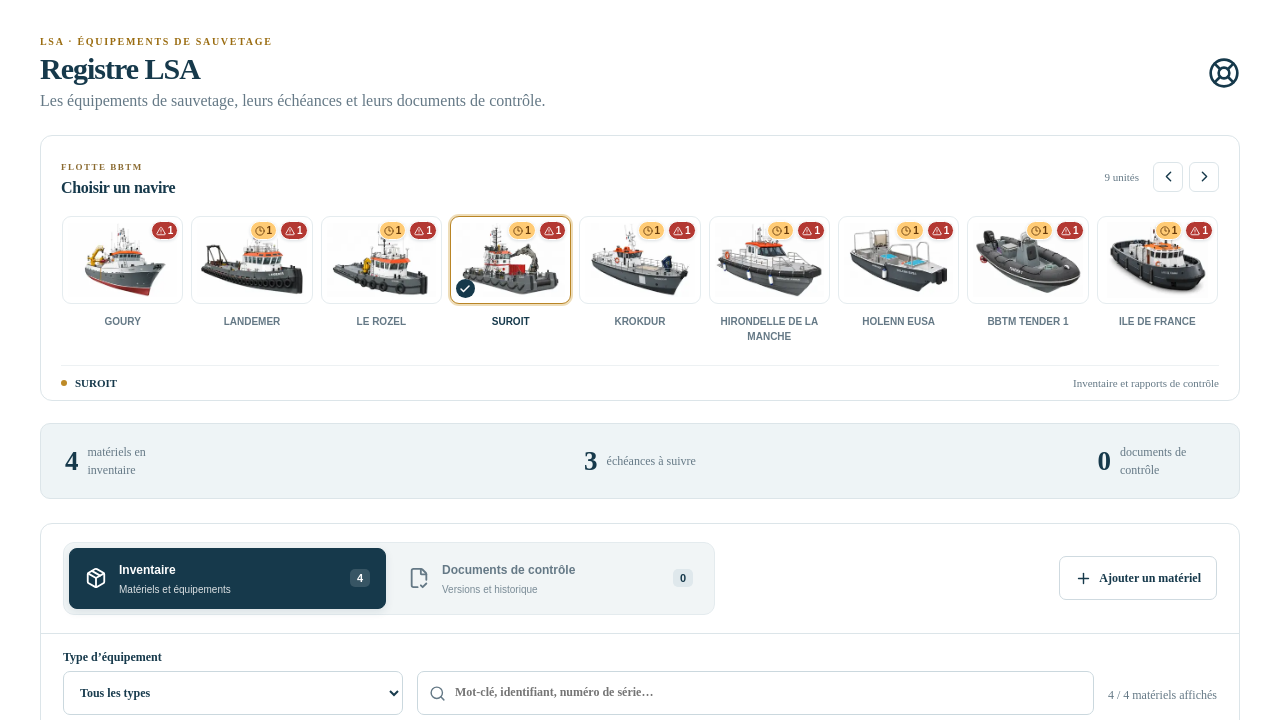
Scenario: LSA vessel expiry badges › keeps all-vessel counts independent from the selected vessel, category and search filters
Expected: the text "4 / 4 matériels affichés" is shown, [1108, 688, 1217, 702]
Expected: the picture named "1 matériel à échéance sous 30 jours" is shown, [508, 221, 536, 240]
Select "Pyrotechnie" in the dropdown labelled "Type d’équipement" at [233, 693], box [63, 671, 403, 715]
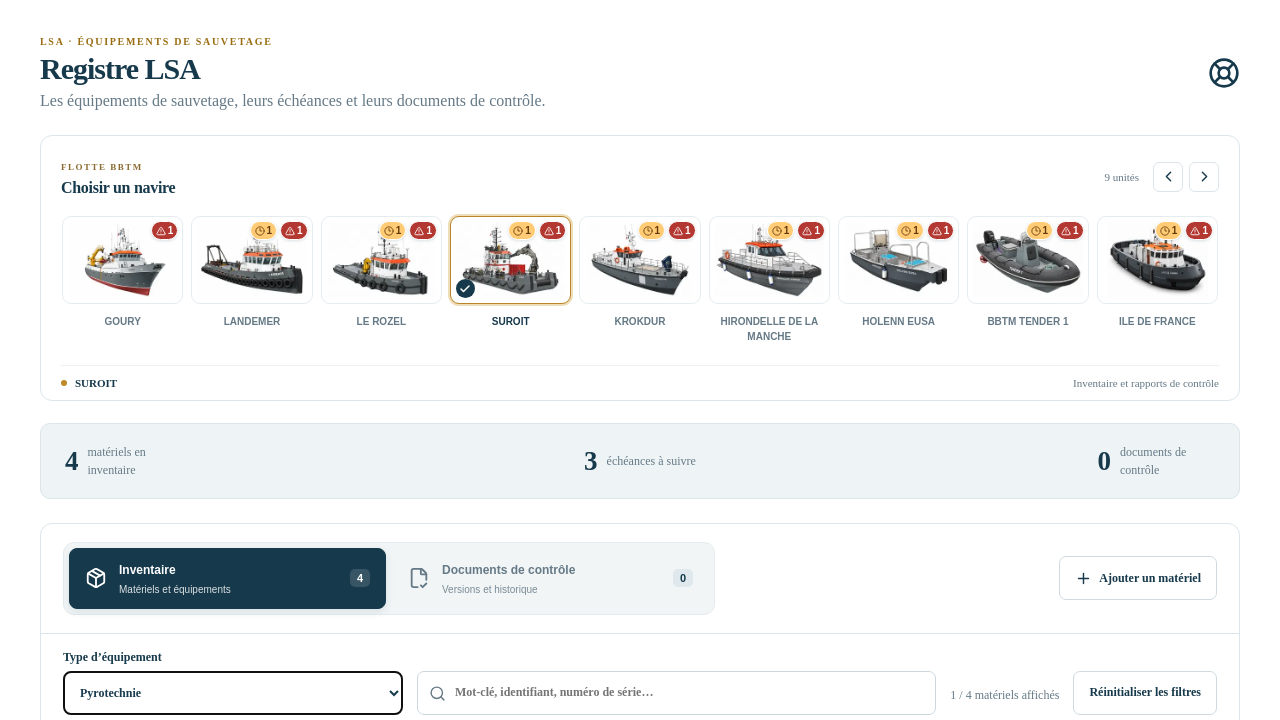
Type "inexistant" into the field named "Rechercher un matériel" at [677, 693], box [417, 671, 936, 715]
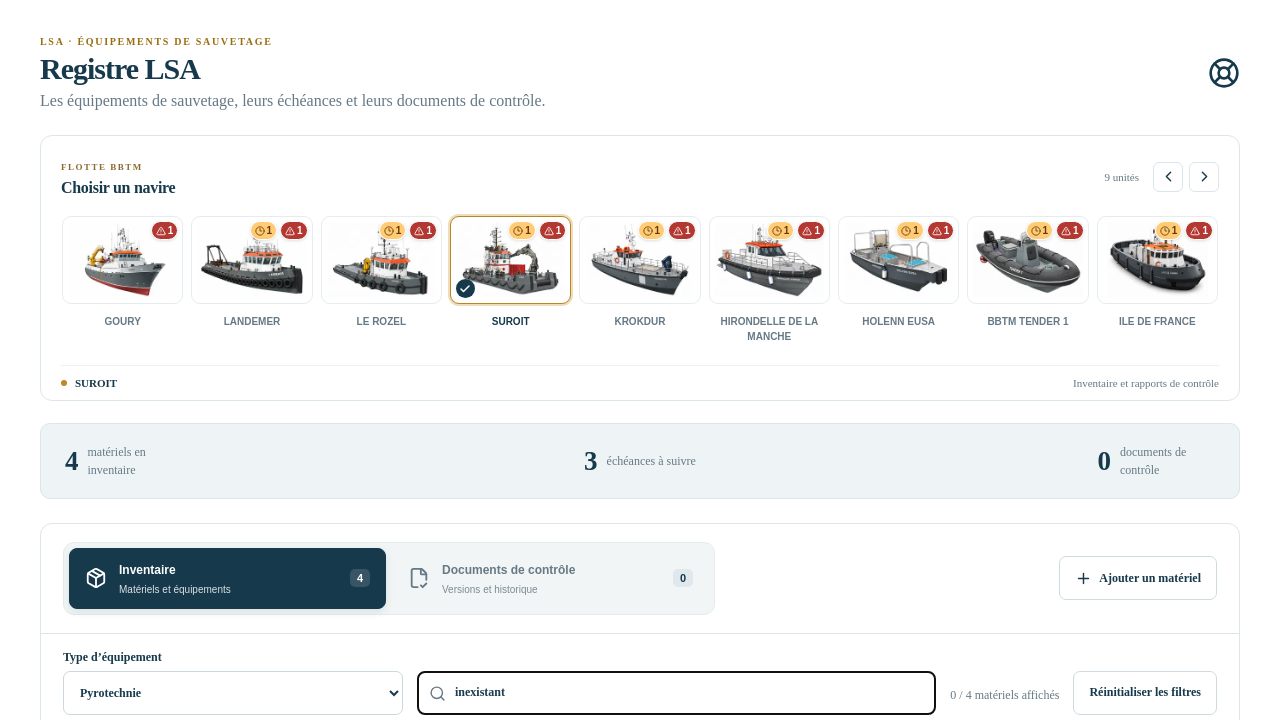
Expected: the picture named "1 matériel à échéance sous 30 jours" is shown, [508, 221, 536, 240]
Expected: the picture named "1 matériel périmé" is shown, [151, 221, 178, 240]
Click the button "1 GOURY" at [123, 282], box [63, 216, 182, 349]
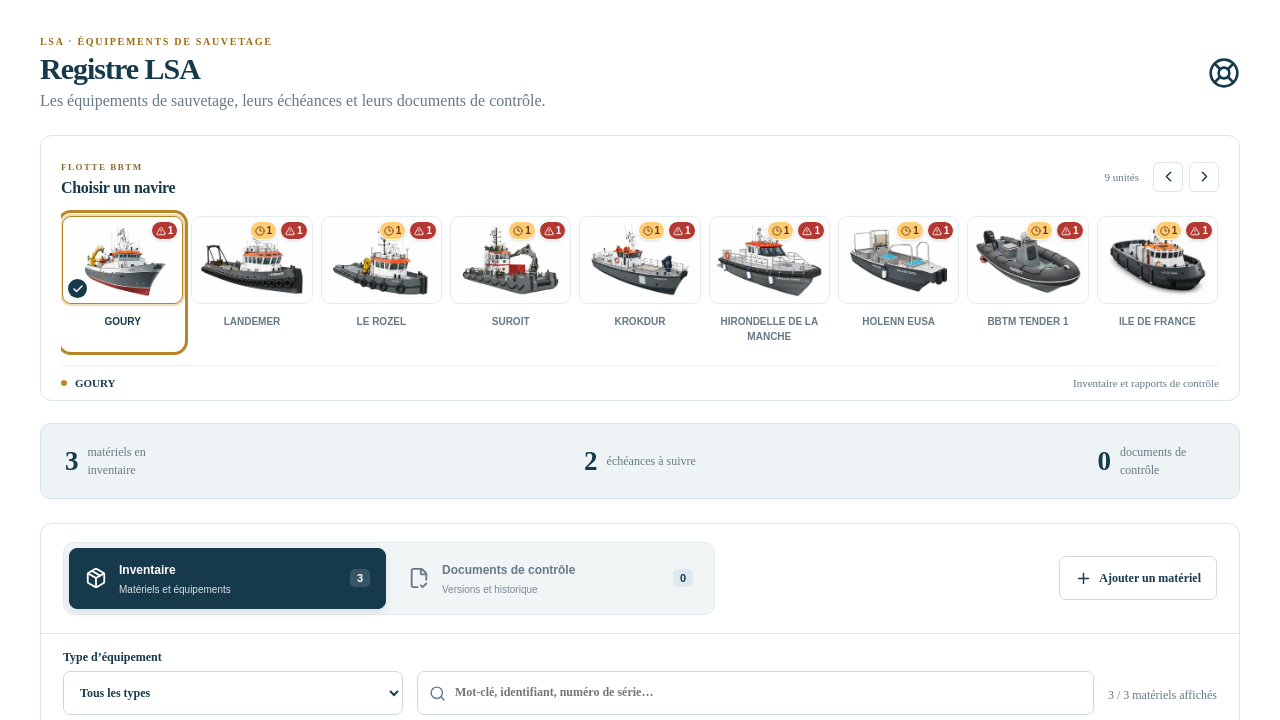
Expected: the picture named "1 matériel à échéance sous 30 jours" is shown, [508, 221, 536, 240]
Expected: the text "3 / 3 matériels affichés" is shown, [1108, 688, 1217, 702]
